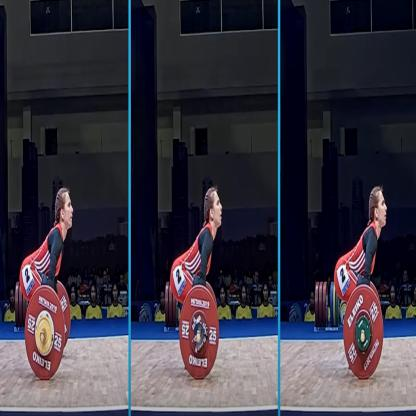Barbell: (21, 278, 68, 395), (340, 280, 387, 389), (176, 279, 221, 383)
